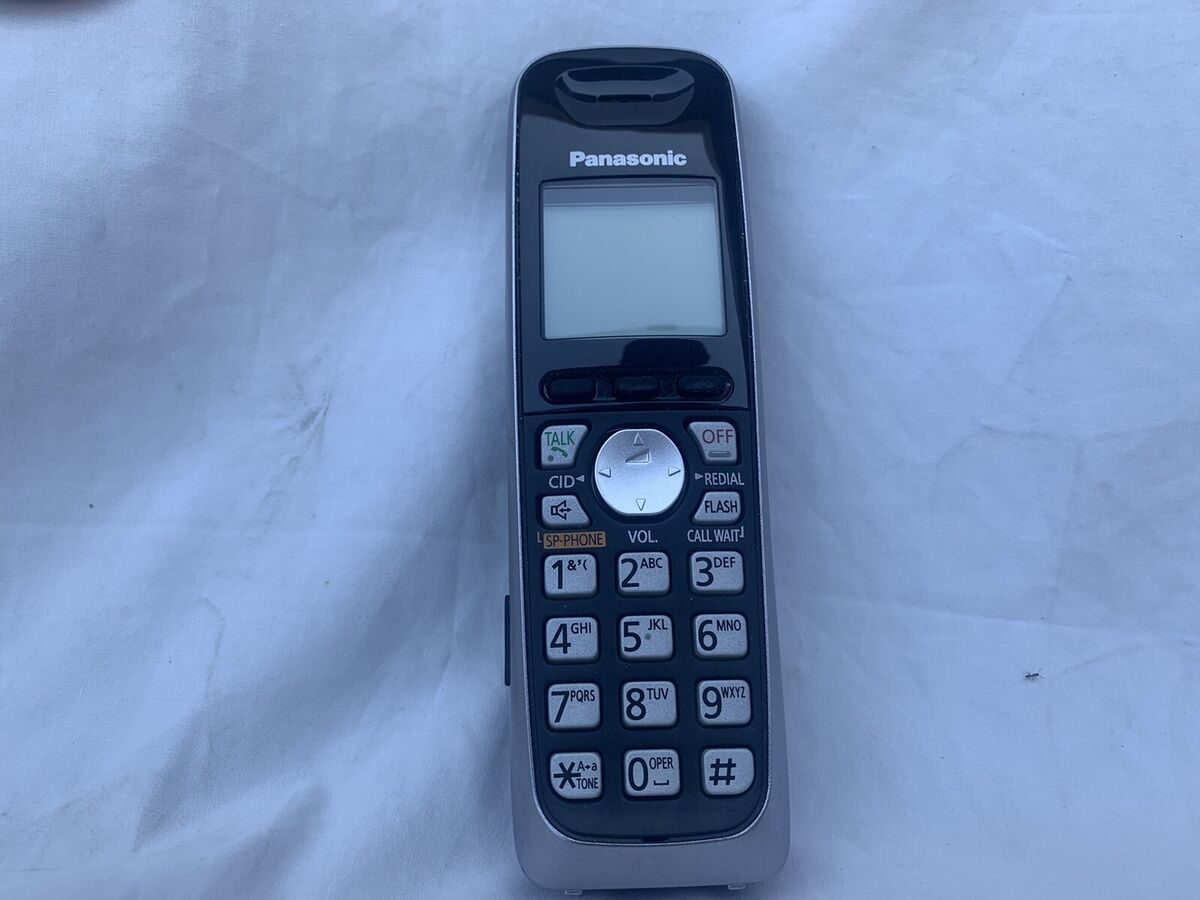telephone: (499, 44, 796, 891)
